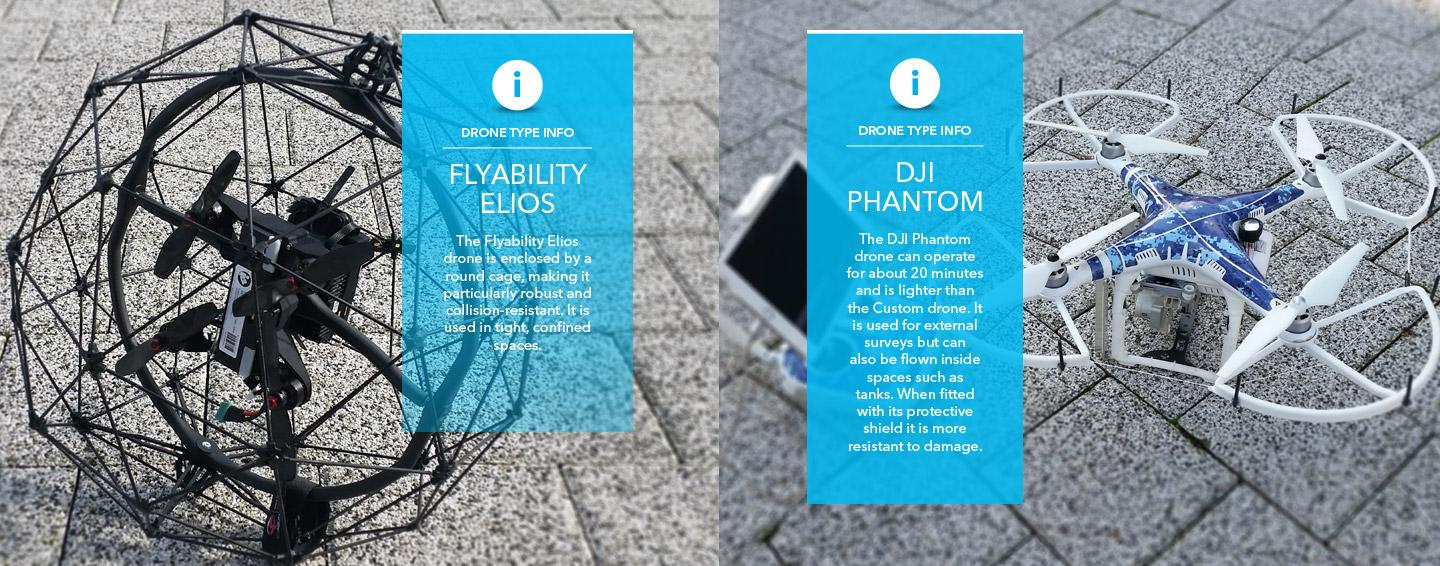drone: (944, 89, 1440, 447)
